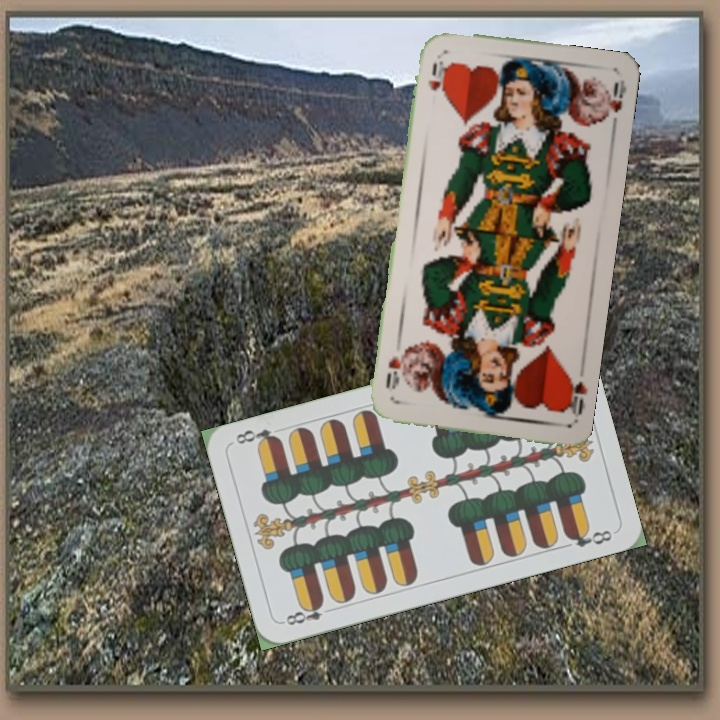E8: (279, 597, 337, 628)
HO: (559, 370, 589, 423), (424, 52, 446, 93)
